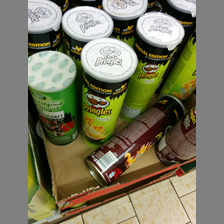chips: (84, 96, 184, 184), (123, 11, 184, 122), (78, 37, 136, 145), (28, 50, 79, 146)
